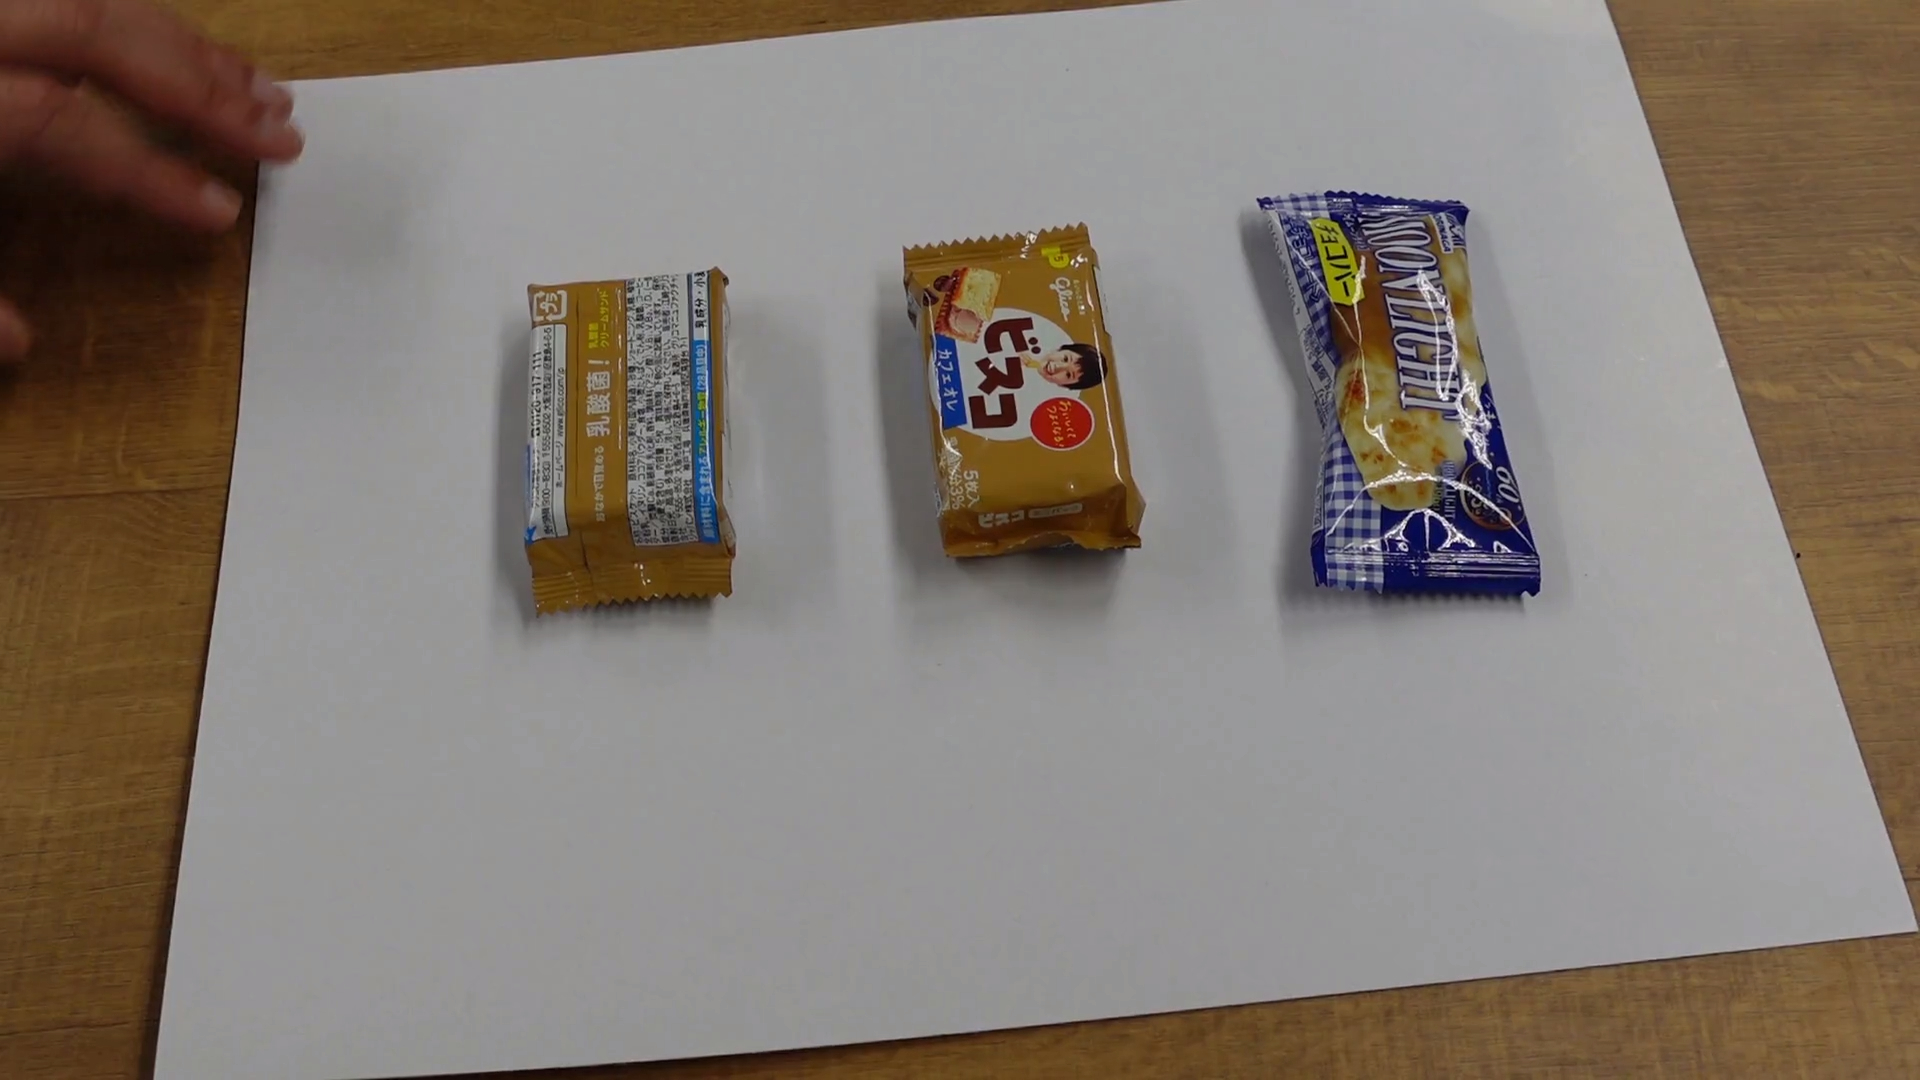BISCO_CafeAuLet: (899, 227, 1153, 563), (526, 277, 735, 607)
